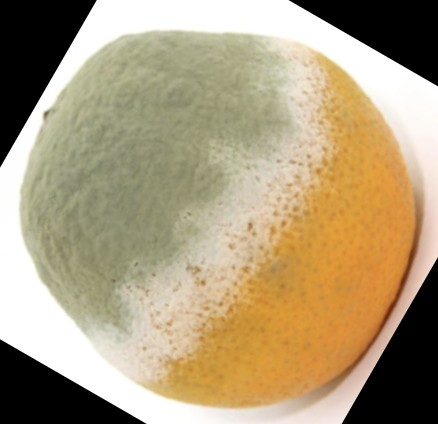rotten_orange: (21, 31, 418, 408)
